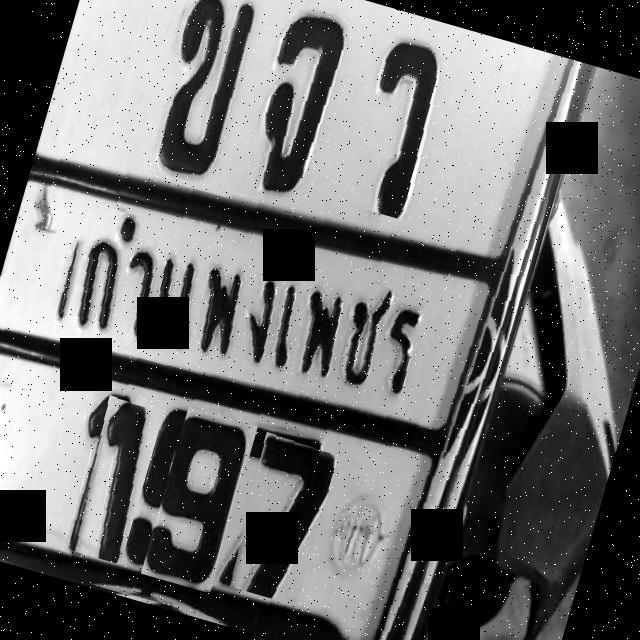letters: (318, 14, 474, 225), (224, 6, 372, 218), (139, 0, 288, 199), (140, 406, 258, 593), (222, 432, 340, 606), (65, 394, 164, 564)
license-plate: (0, 0, 592, 640)
province: (49, 201, 451, 438)
